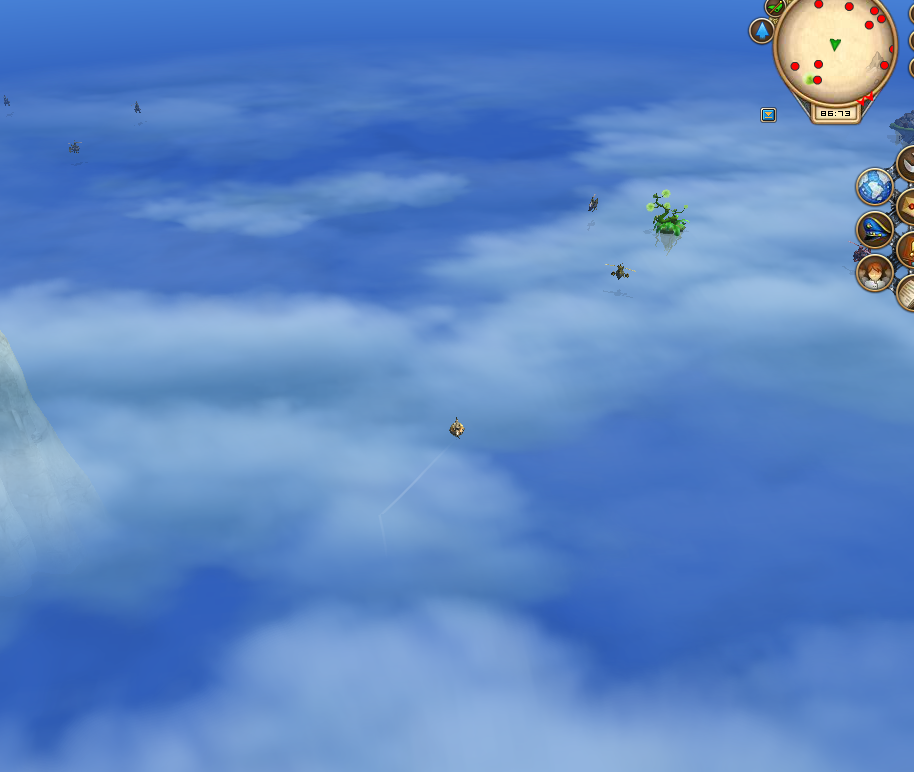dandelion-full: (644, 183, 693, 243)
